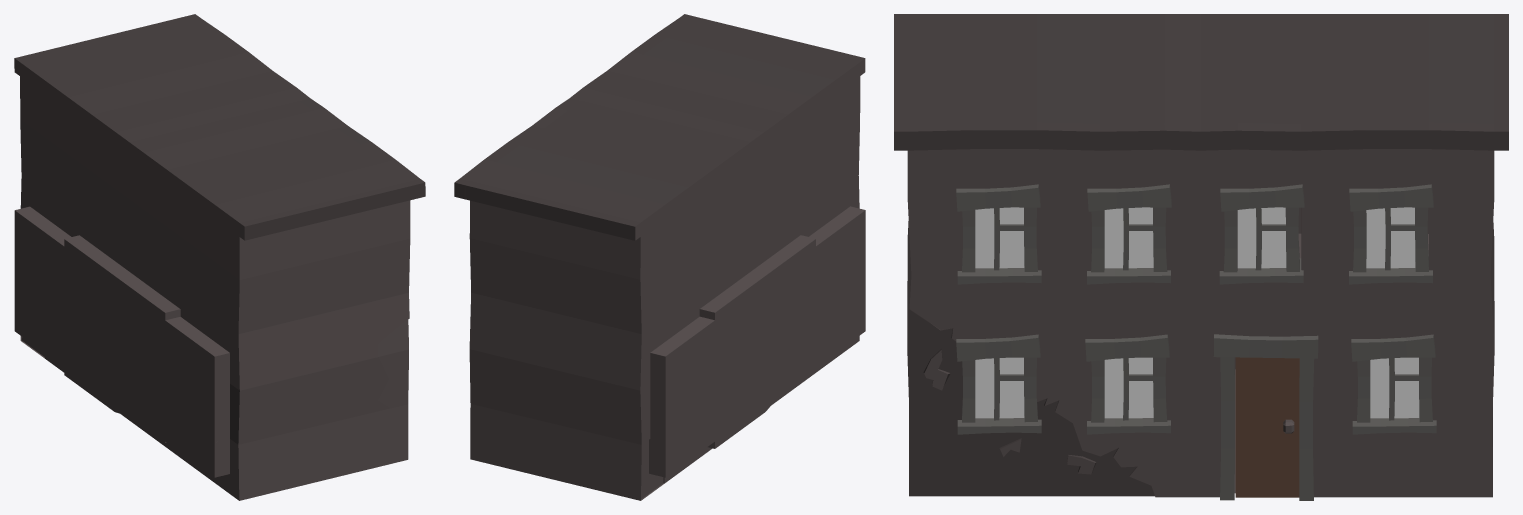
File: house2.fbx
3 views of the same model, side by side, from view 1: azimuth 30°, elevation 25°; view 2: azimuth 150°, elevation 25°; view 3: azimuth 270°, elevation 25° (orthographic). The views are drawn at different scales.
Visible parts, largest first — view 1: Cube.171; view 2: Cube.171; view 3: Cube.171.
Part boxes in pixels (<box>): Cube.171: <box>14,14,425,500</box>; Cube.171: <box>454,14,865,500</box>; Cube.171: <box>894,14,1508,500</box>.
Size of the model in its own units: 523 by 716 by 1065.
